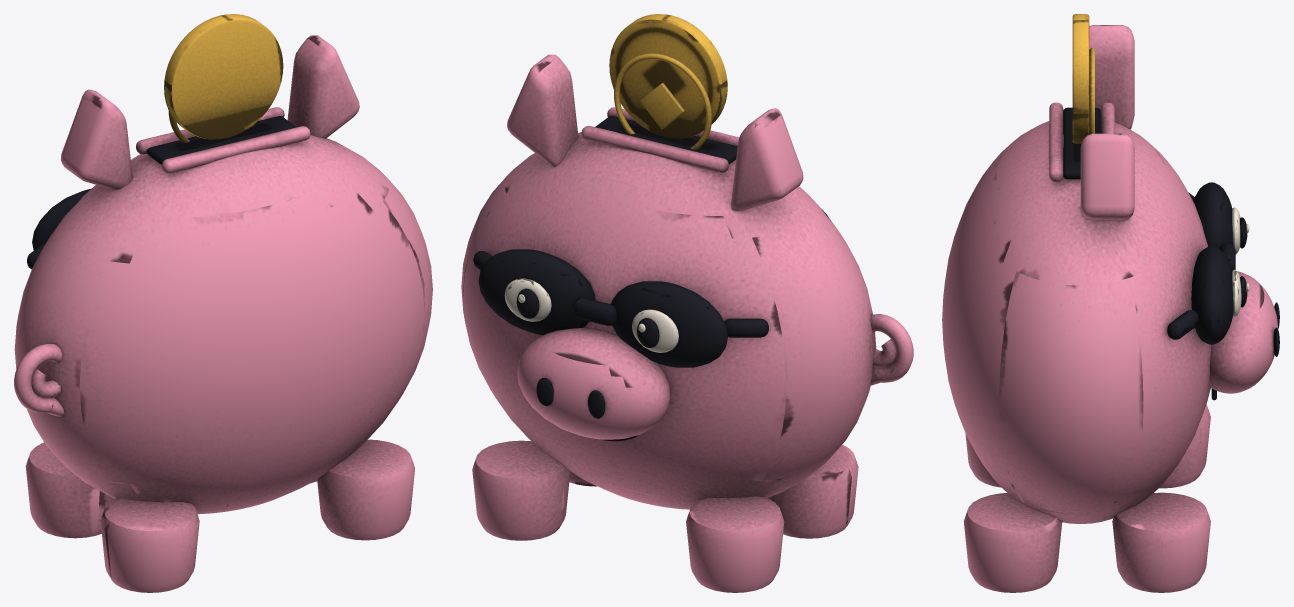
3 views of the same model, side by side, from view 1: azimuth 30°, elevation 25°; view 2: azimuth 150°, elevation 25°; view 3: azimuth 270°, elevation 25° (orthographic).
Visible parts, largest first — view 1: Pink_glazed_ceramic, anim_Polished_gold_0, Black_satin_mask; view 2: Pink_glazed_ceramic, Black_satin_mask, anim_Polished_gold_0, Polished_gold, Warm_ivory_eyes; view 3: Pink_glazed_ceramic, Black_satin_mask, anim_Polished_gold_0, Warm_ivory_eyes, Polished_gold.
Part boxes in pixels (x1=…): Pink_glazed_ceramic: x1=14, y1=35, x2=432, y2=592; anim_Polished_gold_0: x1=164, y1=14, x2=283, y2=139; Black_satin_mask: x1=27, y1=116, x2=296, y2=269; Pink_glazed_ceramic: x1=461, y1=54, x2=913, y2=592; Black_satin_mask: x1=473, y1=116, x2=768, y2=441; anim_Polished_gold_0: x1=609, y1=14, x2=727, y2=138; Polished_gold: x1=614, y1=53, x2=712, y2=149; Warm_ivory_eyes: x1=504, y1=278, x2=678, y2=352; Pink_glazed_ceramic: x1=942, y1=25, x2=1278, y2=592; Black_satin_mask: x1=1063, y1=107, x2=1279, y2=400; anim_Polished_gold_0: x1=1072, y1=14, x2=1089, y2=143; Warm_ivory_eyes: x1=1232, y1=207, x2=1249, y2=317; Polished_gold: x1=1089, y1=48, x2=1094, y2=134.
Size of the model in its own units: 0.6488 by 0.7468 by 0.45.
Materials: 4 (4 with a texture image).
